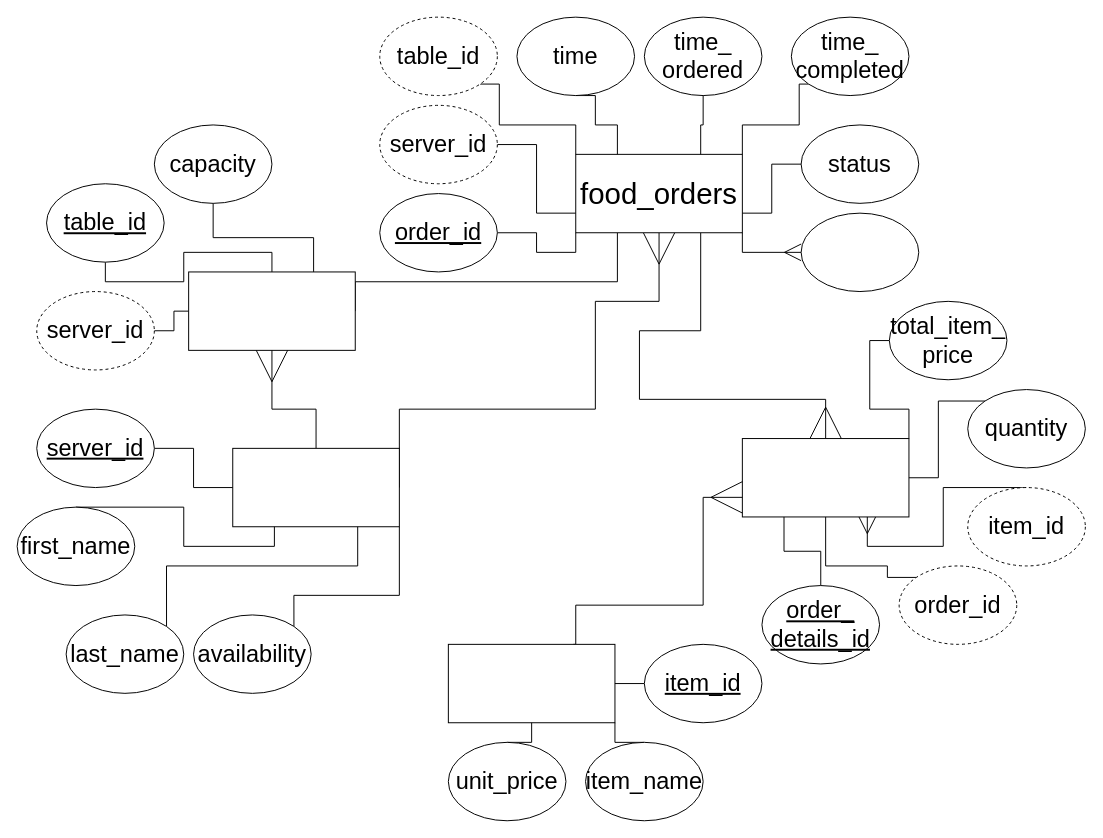
Some shapes in this 1103 by 838 pixel diagram are drawn without their labels. The box of each missing label's shape, as (x1, y1, x2, y2) in pixels:
menu_items: (447, 643, 615, 723)
order_details: (741, 438, 909, 517)
servers: (232, 447, 399, 527)
special_ instructions: (800, 212, 919, 292)
tables: (188, 271, 355, 350)
